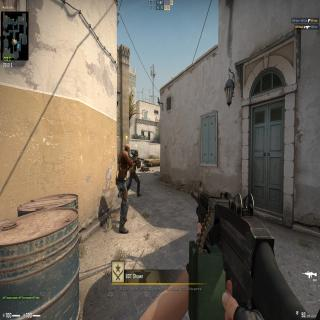T-Head: (125, 144, 130, 156), (135, 149, 138, 157)
